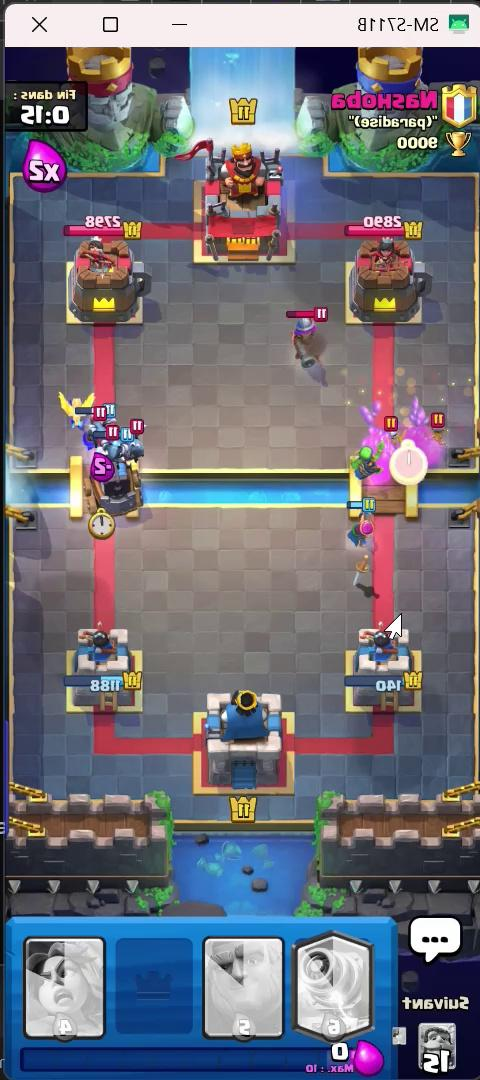archere: (339, 497, 386, 551)
bat: (52, 387, 99, 430)
gargouille: (82, 415, 113, 448), (128, 424, 152, 465), (100, 432, 125, 463), (102, 406, 126, 432)
gobelin_lances: (354, 442, 384, 482)
mousquetaire: (280, 307, 334, 376)
squelette: (422, 409, 456, 453), (380, 412, 408, 462)
zappy: (71, 436, 155, 525)
